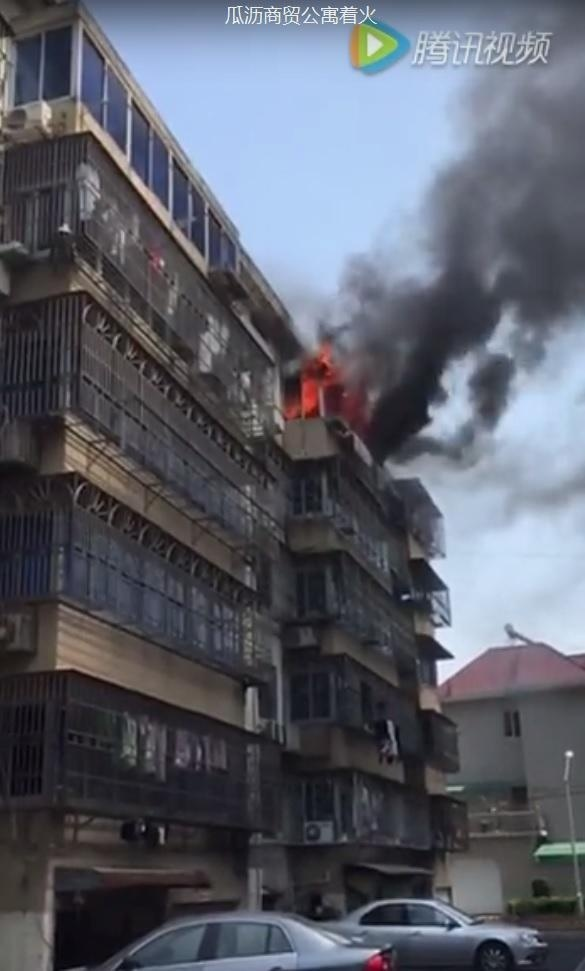fire: (287, 346, 342, 418)
